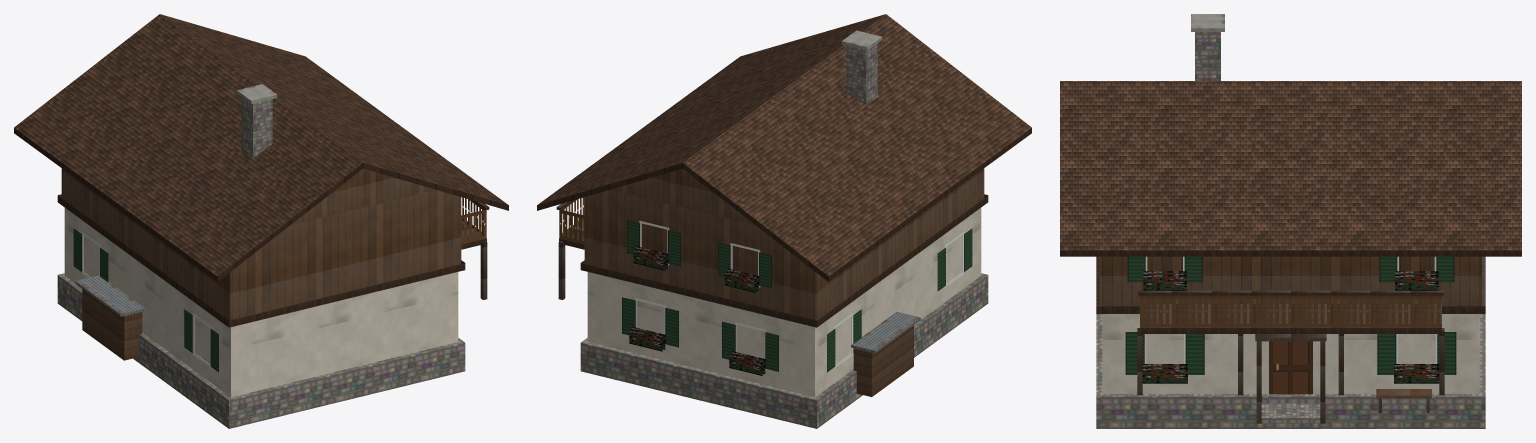
The model's file is chalet0.fbx.
The picture shows the model from 3 angles, left to right: view 1: azimuth 30°, elevation 25°; view 2: azimuth 150°, elevation 25°; view 3: azimuth 270°, elevation 25°; orthographic projection. The views are drawn at different scales.
Parts seen in each view (by area): view 1: chalet0; view 2: chalet0; view 3: chalet0.
Boxes of the visible parts, x1,y1,x2,y2 form: chalet0: (14,14,508,428); chalet0: (537,14,1031,428); chalet0: (1060,14,1521,428).
Bounding box in the file's own units: 10.1 × 8.88 × 11.62.
Materials: 15 (14 with a texture image).
